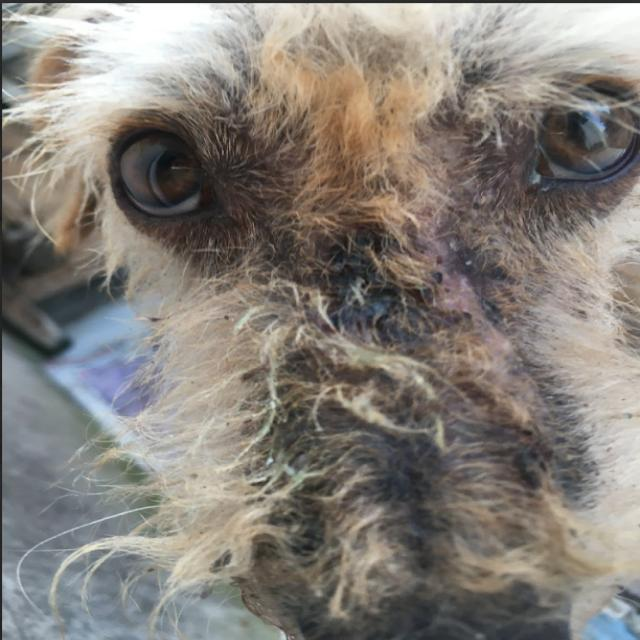demodicosis: (290, 208, 528, 467)
